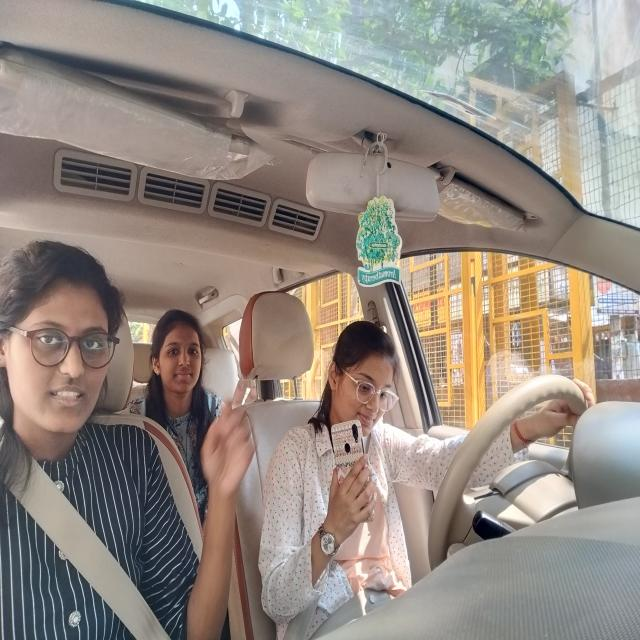mobile: (326, 407, 376, 508)
person: (0, 218, 128, 460), (322, 319, 410, 444), (147, 305, 220, 436)
